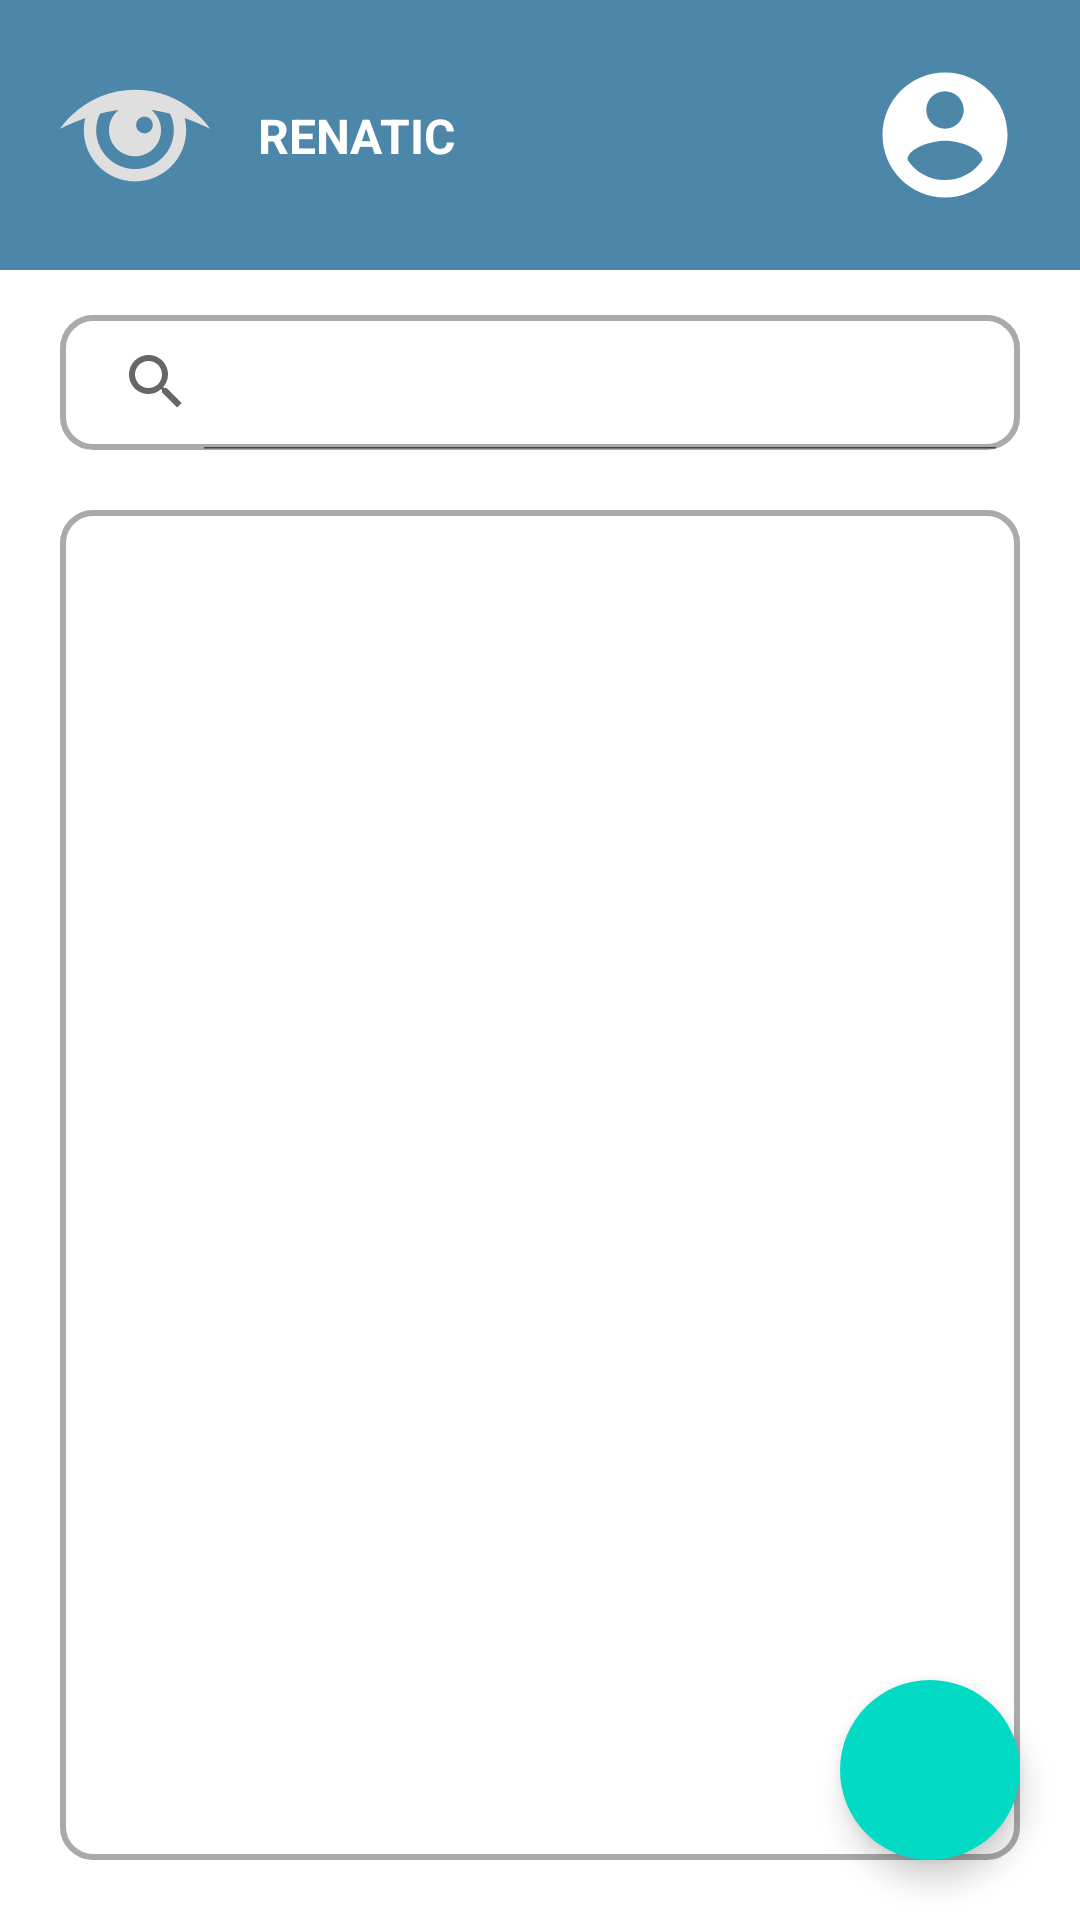

Where to tap for icons on this 1080*1920 app screen, as (x,y):
account circle: (945,135)
